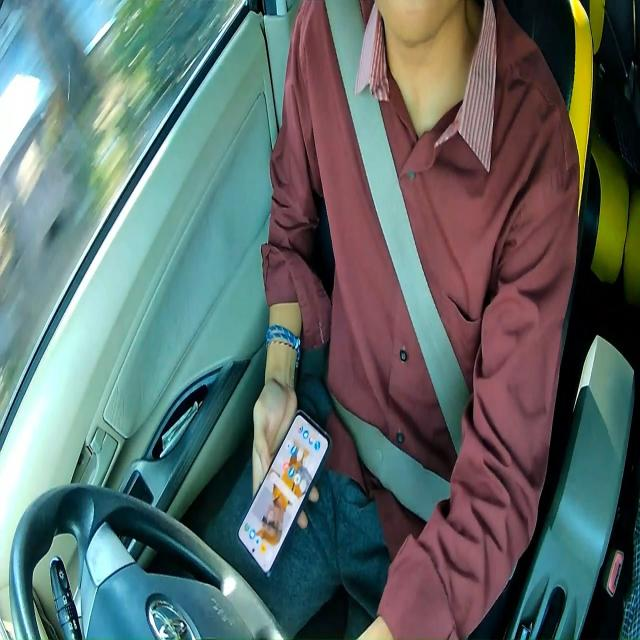phone: (234, 406, 330, 576)
